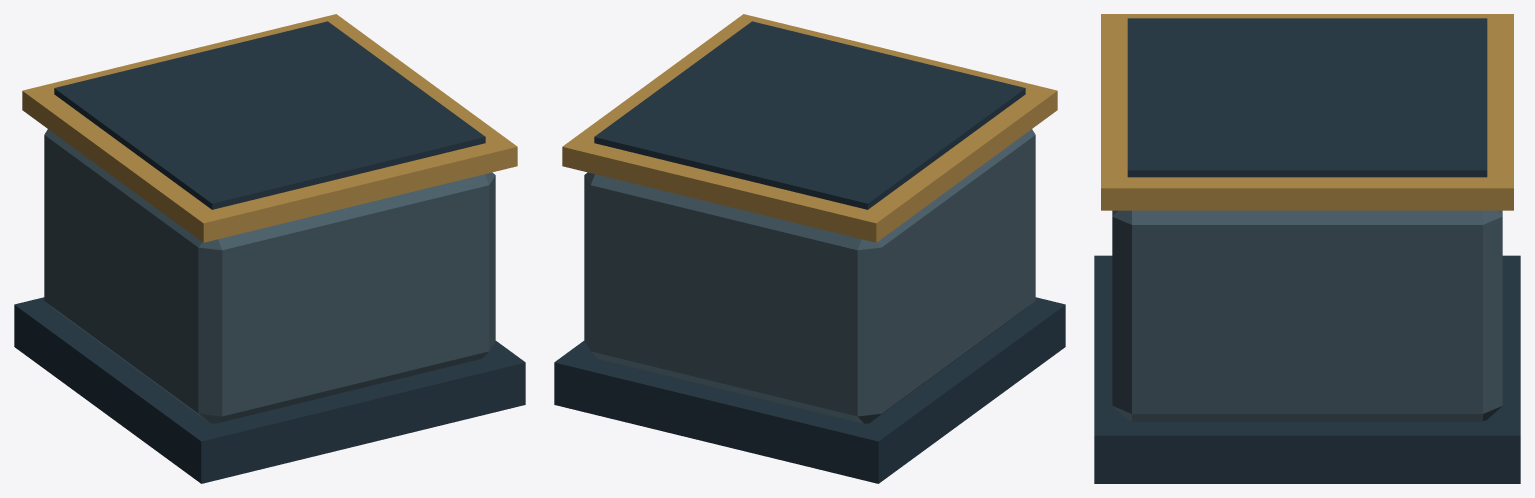
File: tile-wall.glb
3 views of the same model, side by side, from view 1: azimuth 30°, elevation 25°; view 2: azimuth 150°, elevation 25°; view 3: azimuth 270°, elevation 25° (orthographic). The views are drawn at different scales.
Visible parts, largest first — view 1: tile-wall; view 2: tile-wall; view 3: tile-wall.
Part boxes in pixels (x1=…): tile-wall: x1=14, y1=14, x2=525, y2=483; tile-wall: x1=554, y1=14, x2=1065, y2=483; tile-wall: x1=1094, y1=14, x2=1520, y2=483.
Bounding box in the file's own units: 0.96 × 0.745 × 0.96.
